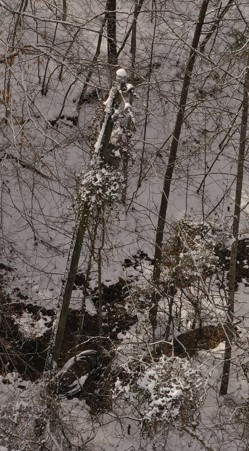pole: (31, 62, 145, 365)
